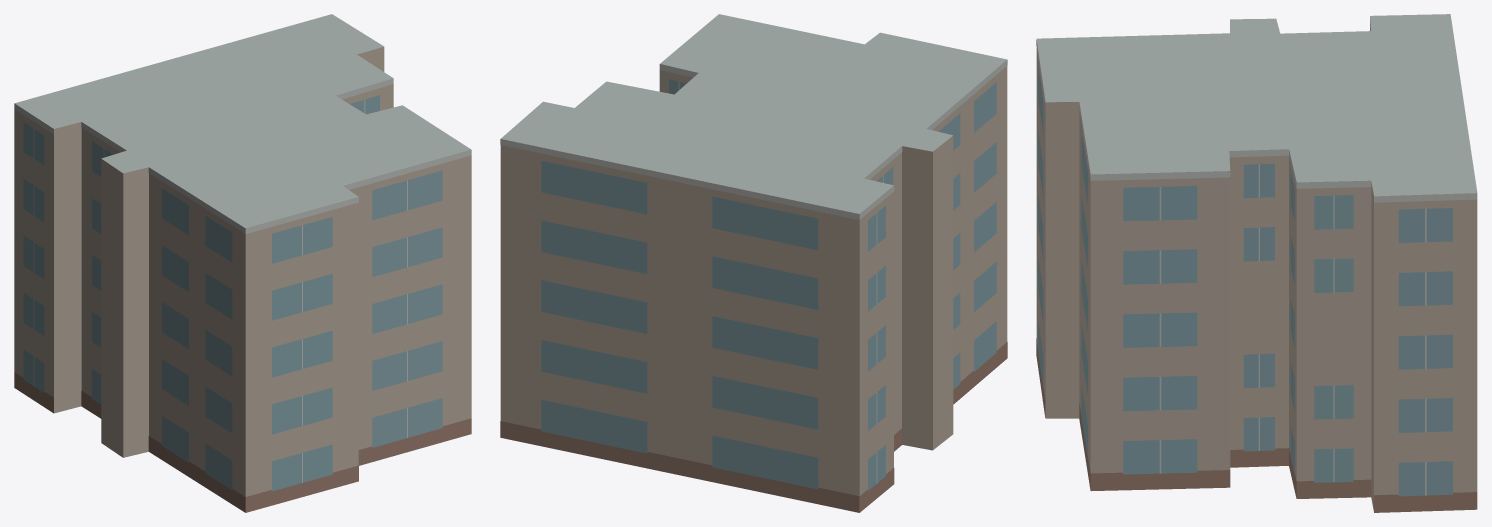
Rendered from survey-upis-32637406.glb.
3 renders of one model, left to right at view 1: azimuth 30°, elevation 25°; view 2: azimuth 150°, elevation 25°; view 3: azimuth 270°, elevation 25°, orthographic. The views are drawn at different scales.
Parts seen in each view (by area): view 1: survey-upis-32637406.tmp; view 2: survey-upis-32637406.tmp; view 3: survey-upis-32637406.tmp.
Boxes of the visible parts, x1,y1,x2,y2 form: survey-upis-32637406.tmp: [14, 14, 471, 512]; survey-upis-32637406.tmp: [500, 14, 1007, 512]; survey-upis-32637406.tmp: [1036, 14, 1477, 512].
Size of the model in its own units: 14.96 by 12.11 by 15.3.
